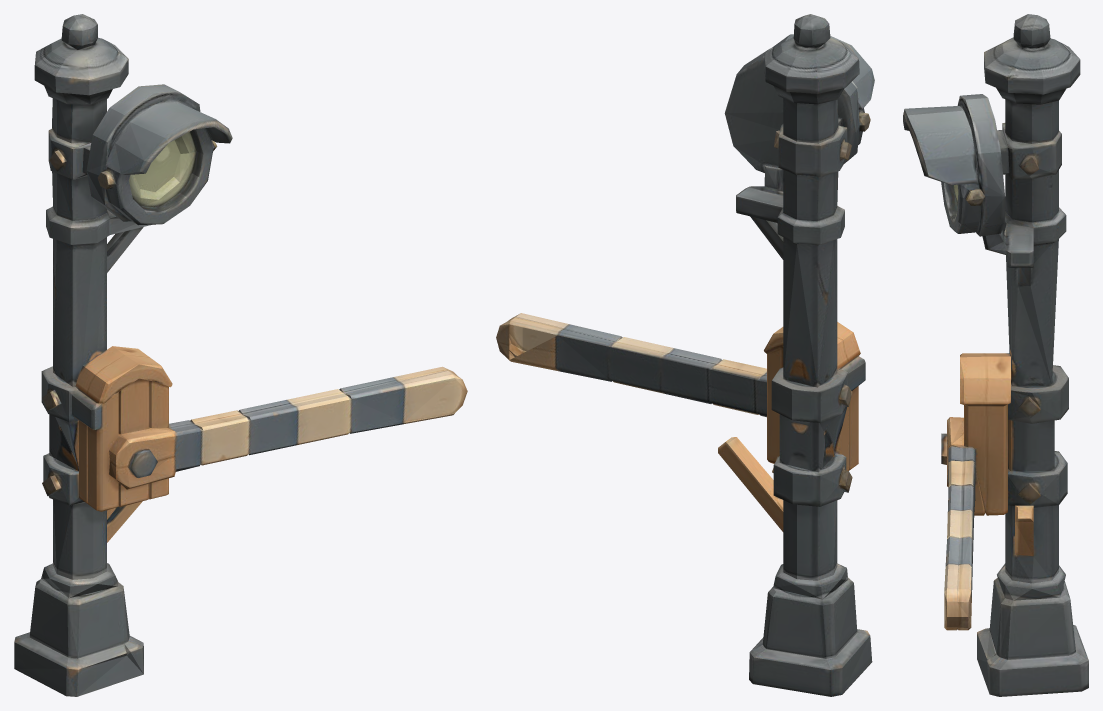
The model's file is signal-C5OjQ74y.glb.
3 views of the same model, side by side, from view 1: azimuth 30°, elevation 25°; view 2: azimuth 150°, elevation 25°; view 3: azimuth 270°, elevation 25° (orthographic).
Visible parts, largest first — view 1: tripo_node_bc7979a0-9ee0-4d42-9e2a-c65b0d19f0fe; view 2: tripo_node_bc7979a0-9ee0-4d42-9e2a-c65b0d19f0fe; view 3: tripo_node_bc7979a0-9ee0-4d42-9e2a-c65b0d19f0fe.
Part boxes in pixels (bbox=[...]): tripo_node_bc7979a0-9ee0-4d42-9e2a-c65b0d19f0fe: bbox=[14, 14, 467, 696]; tripo_node_bc7979a0-9ee0-4d42-9e2a-c65b0d19f0fe: bbox=[496, 14, 874, 696]; tripo_node_bc7979a0-9ee0-4d42-9e2a-c65b0d19f0fe: bbox=[903, 14, 1088, 696].
Bounding box in the file's own units: 0.6173 × 0.9764 × 0.2503.
1 material, 1 textured.
